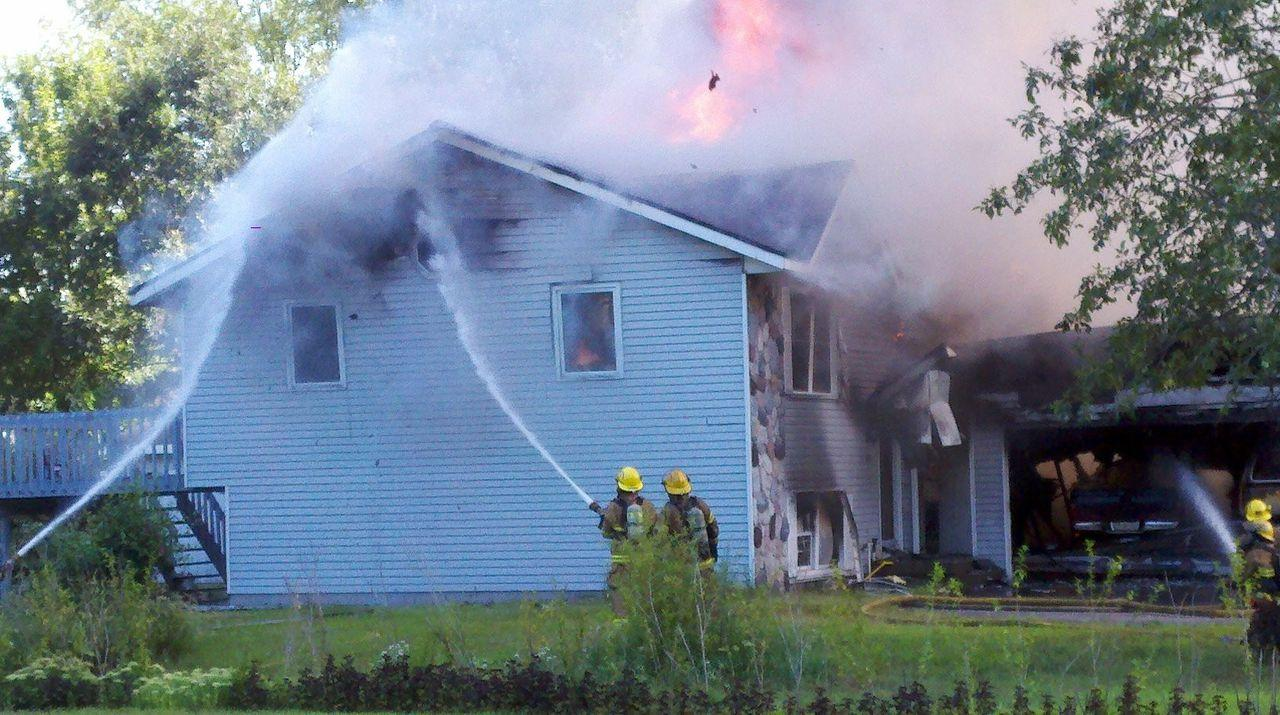fire: (674, 1, 781, 147)
smoke: (329, 0, 802, 245), (804, 0, 1085, 330), (118, 188, 327, 301)
